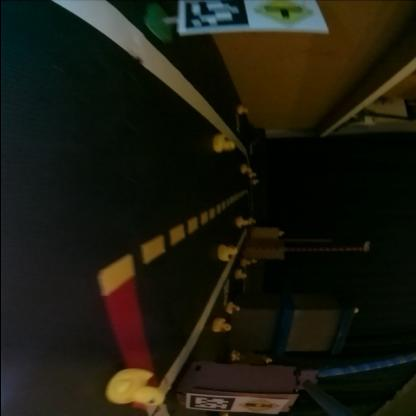Duckie: (105, 368, 163, 408), (211, 134, 235, 152), (218, 244, 236, 262), (213, 318, 231, 333), (225, 302, 240, 314), (236, 218, 247, 228), (235, 270, 246, 280), (237, 105, 247, 115), (241, 165, 251, 174), (240, 261, 250, 267), (248, 172, 256, 178), (276, 232, 284, 238), (232, 354, 239, 358)
Intersection sign: (254, 1, 324, 31)
QR code: (182, 2, 248, 30), (189, 396, 234, 412)
Signal sign: (241, 398, 277, 413)
